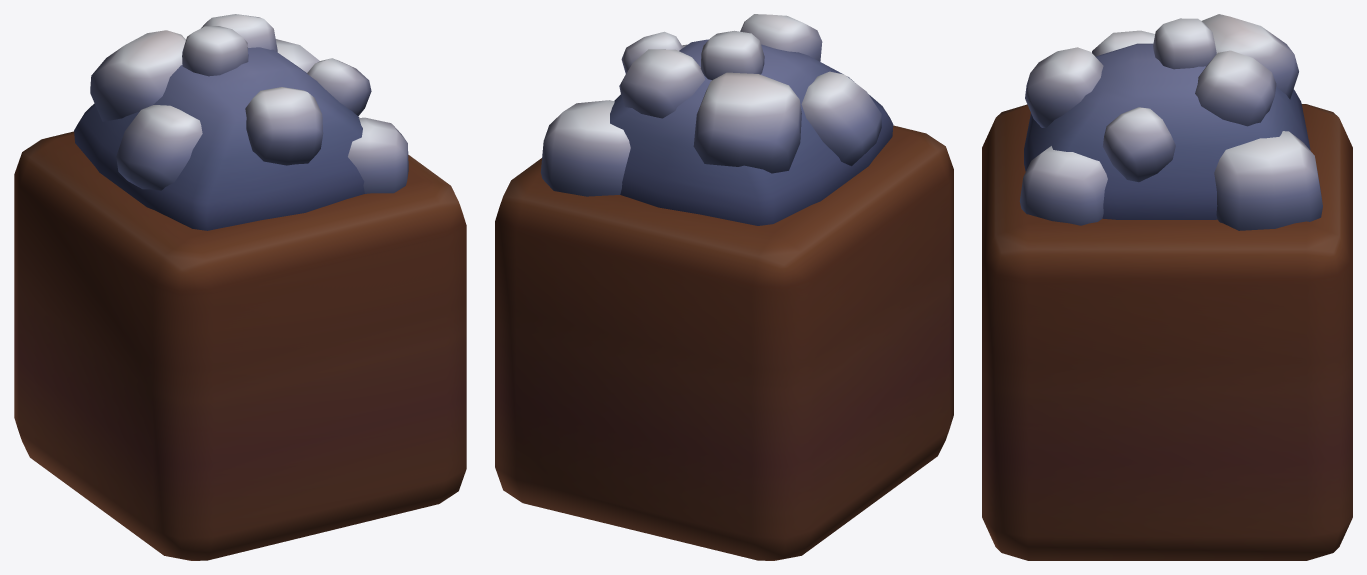
Rendered from block_silver_pile.fbx.
3 renders of one model, left to right at view 1: azimuth 30°, elevation 25°; view 2: azimuth 150°, elevation 25°; view 3: azimuth 270°, elevation 25°, orthographic. The views are drawn at different scales.
Parts seen in each view (by area): view 1: block_silver_pile.001; view 2: block_silver_pile.001; view 3: block_silver_pile.001.
Part boxes in pixels (<box>): block_silver_pile.001: <box>14,14,466,560</box>; block_silver_pile.001: <box>495,14,953,560</box>; block_silver_pile.001: <box>982,14,1352,560</box>.
Bounding box in the file's own units: 200 × 278 × 200.
